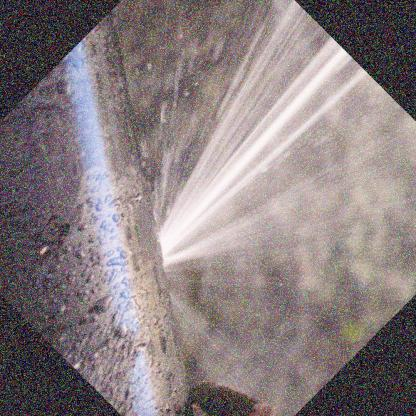burst: (125, 158, 227, 318)
